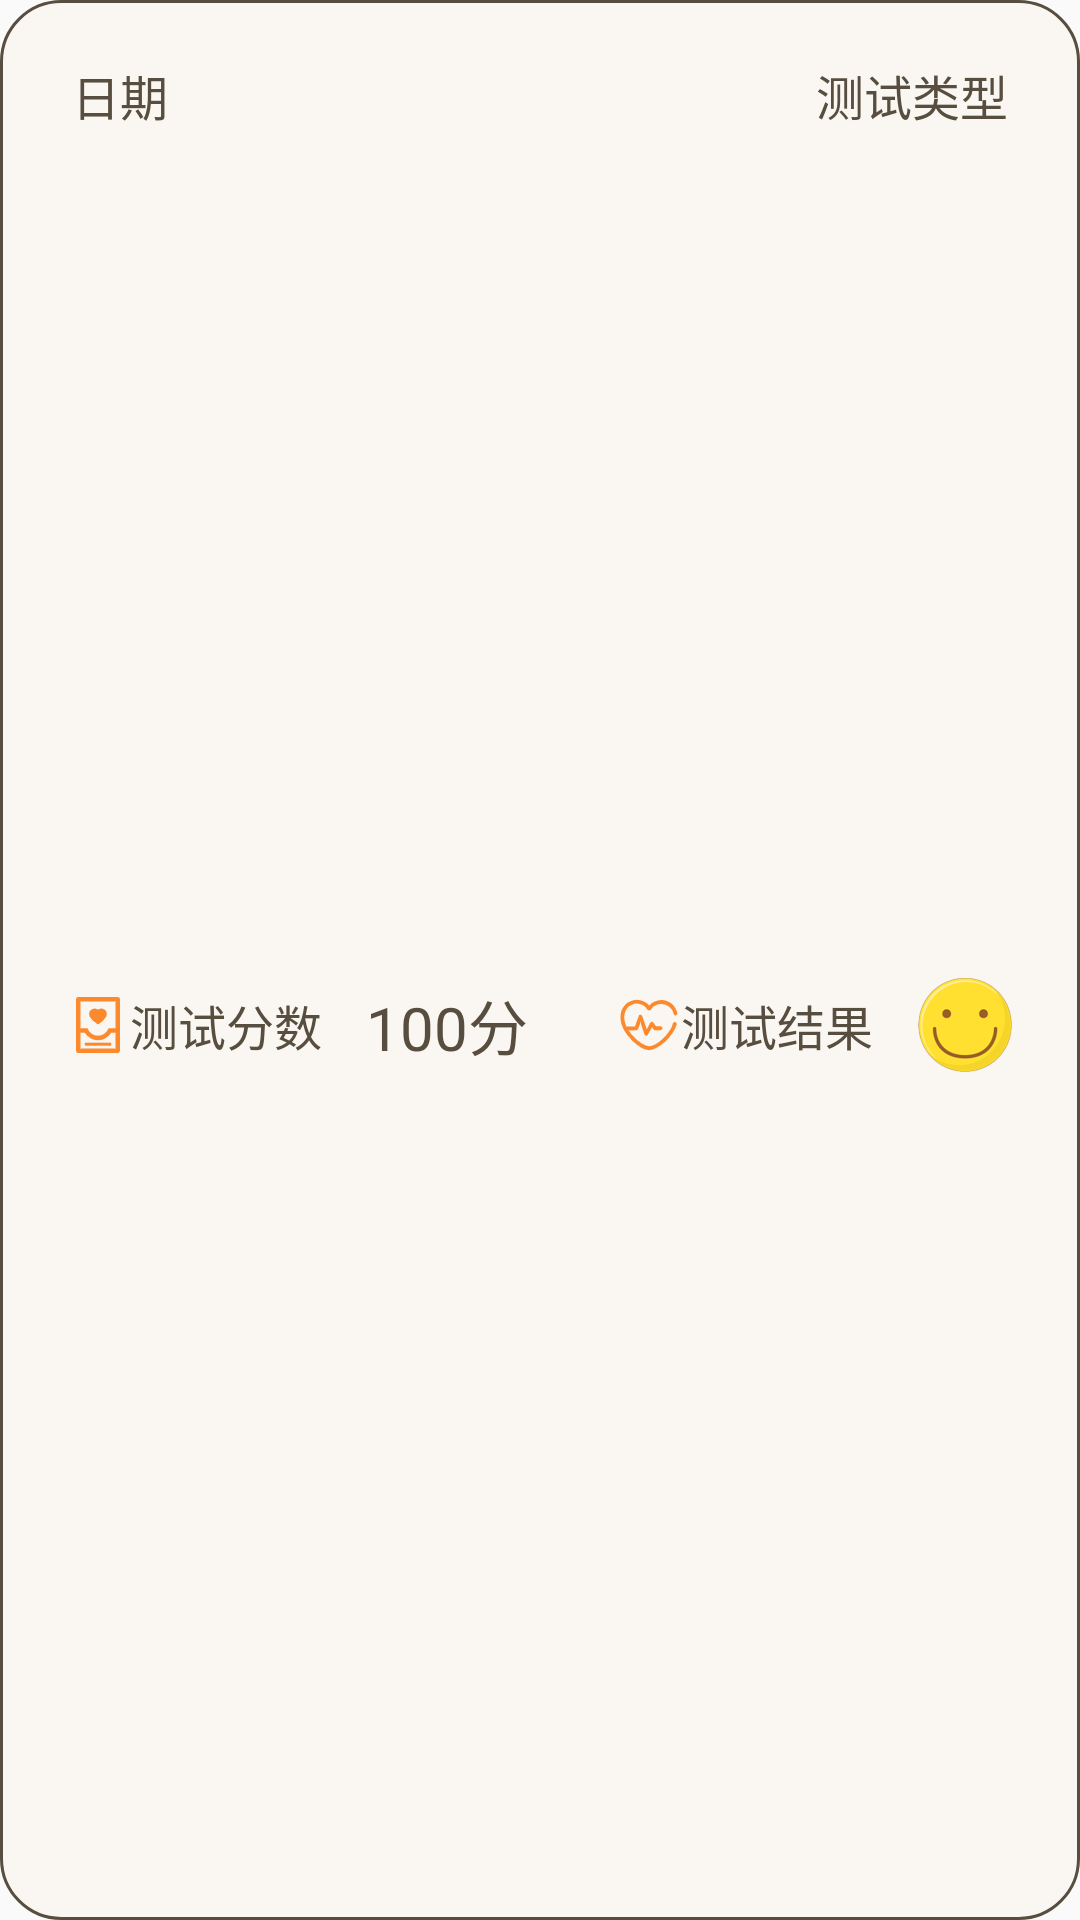

Screen size 1080x1920. Icon name, then its box in pixels as (x1, y1, x2, y2):
testrecord testresult: (620, 999, 678, 1051)
testrecord testresult happy: (918, 978, 1012, 1072)
